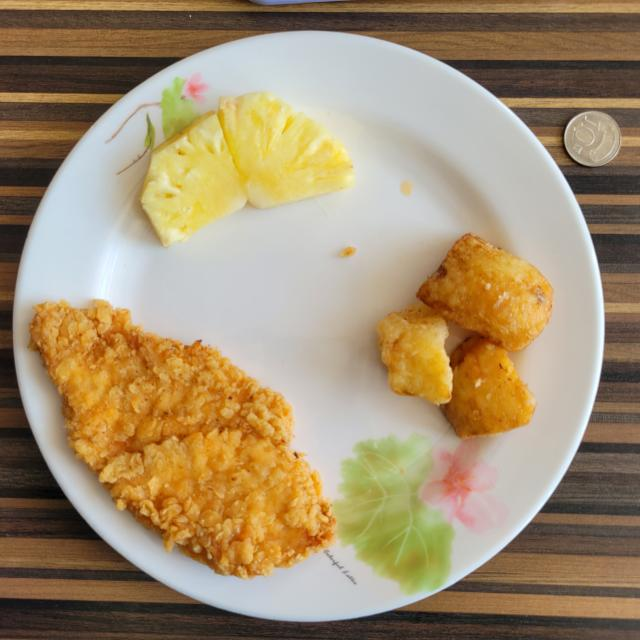coin: (564, 111, 621, 166)
fried chicken cutlet: (30, 300, 336, 579)
fried potato: (376, 234, 554, 439)
pineapple: (140, 91, 355, 248)
